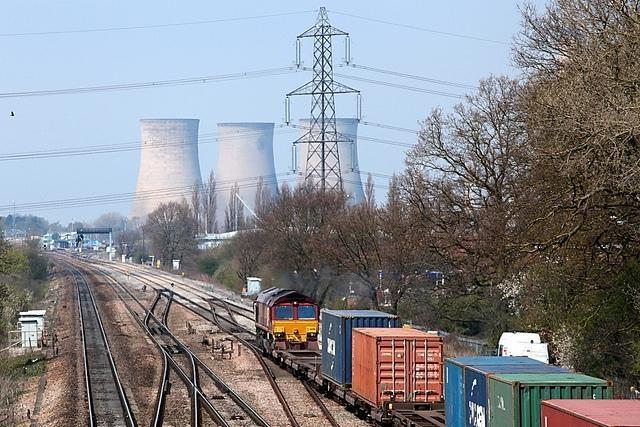truck: (253, 286, 640, 427)
